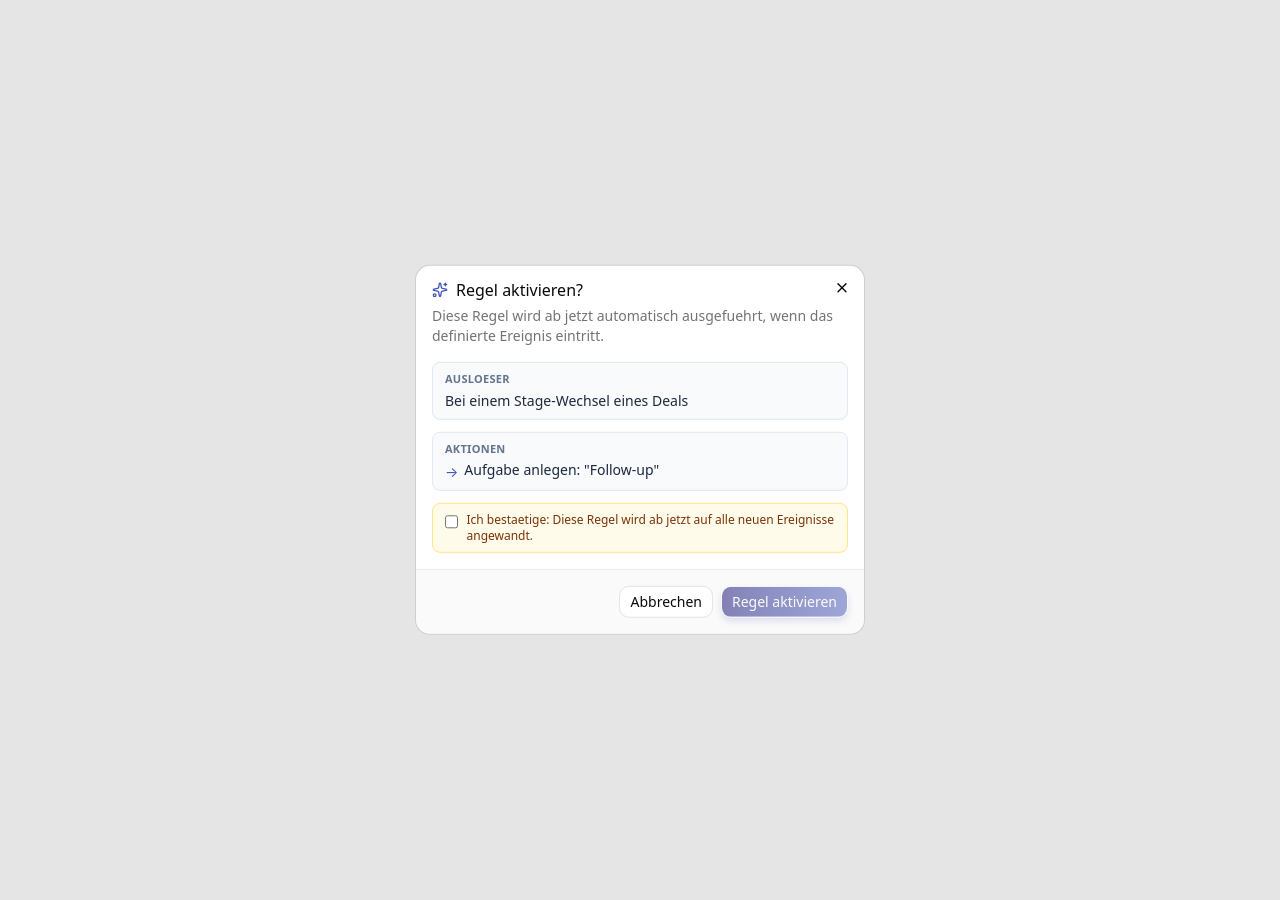
Test: ApplyConfirmModal › enables apply-button after checkbox is checked
Click the checkbox with test id "apply-confirm-checkbox".
click(452, 522)  # box 445,514 -> 458,530
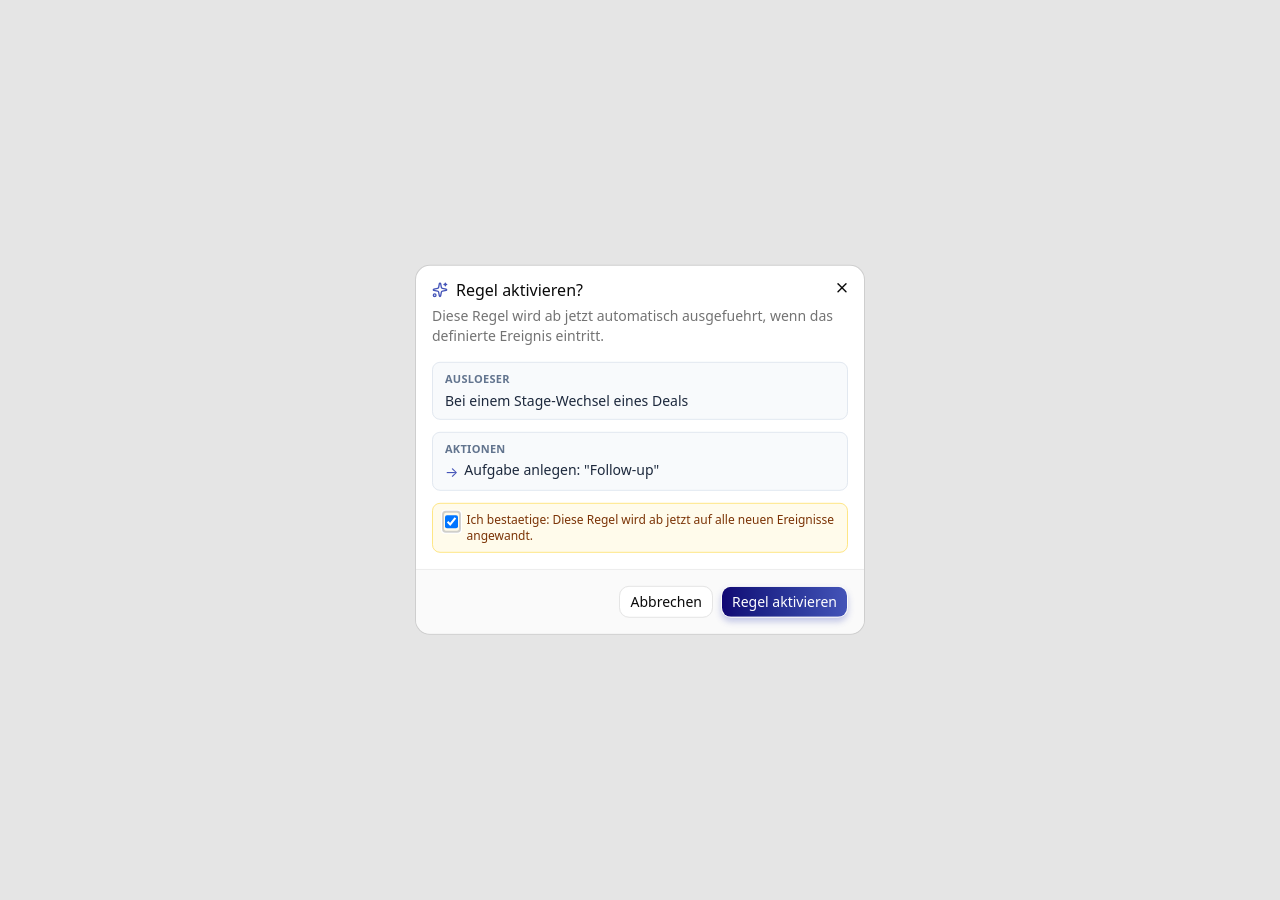
Check: the button with test id "apply-confirm-submit" is enabled, box 721,586 -> 848,618
